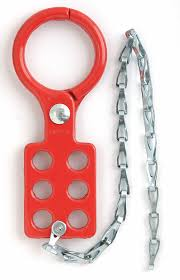hasp: (12, 6, 107, 239)
